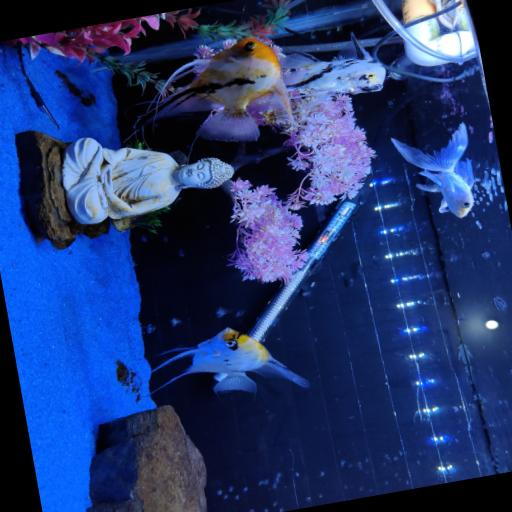Fish: (155, 37, 291, 140), (149, 328, 307, 393), (391, 123, 473, 217), (279, 33, 385, 101)
